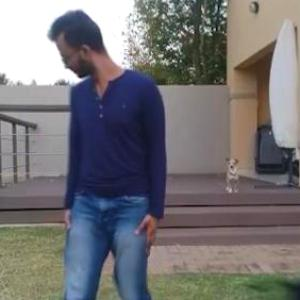follow: (133, 0, 299, 299), (45, 0, 164, 294)
